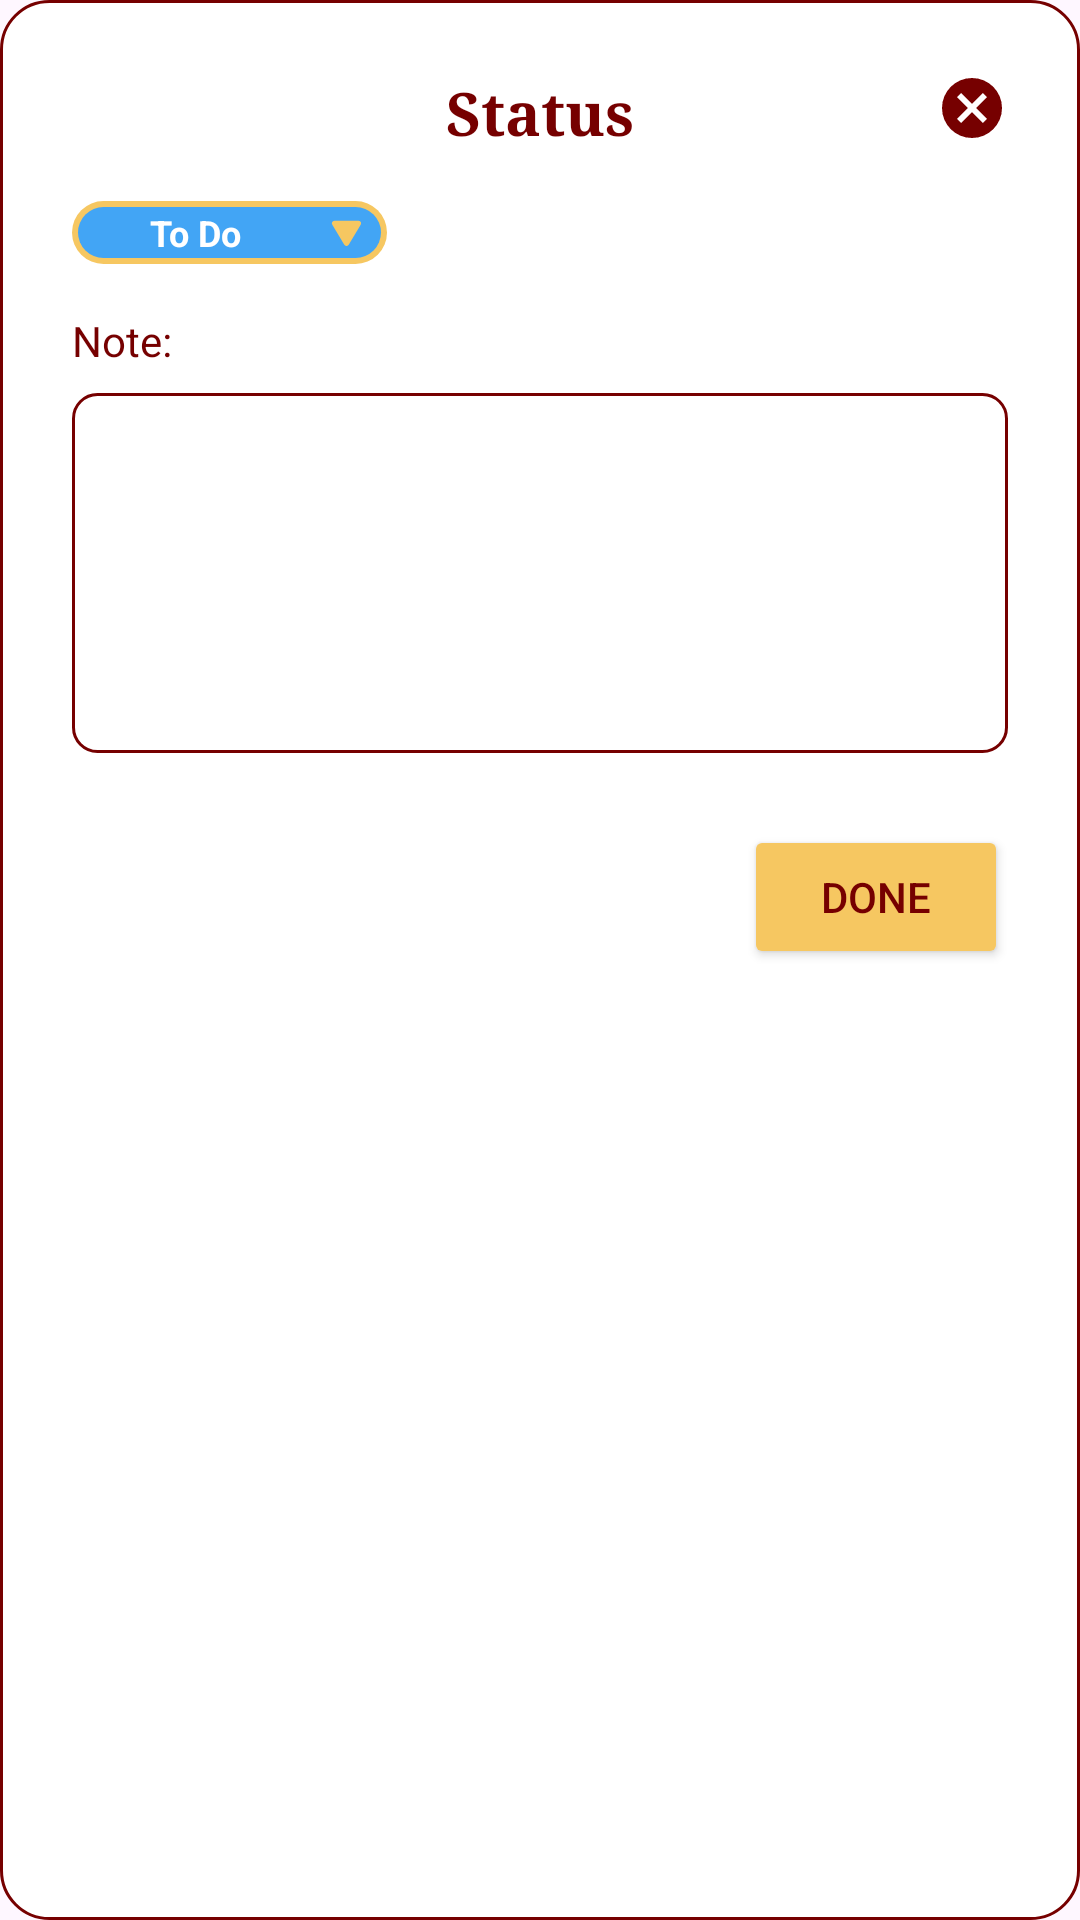

Locate icon controls on the screen. Image size 1080*1920, boxes as BBox(x1, y1, x2, y2).
Tutup: BBox(942, 78, 1002, 138)
